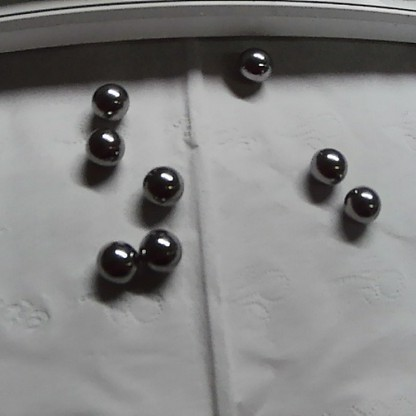ironball: (91, 232, 147, 283), (139, 161, 190, 213), (335, 181, 391, 225), (83, 74, 132, 122), (301, 135, 346, 186), (140, 222, 182, 274), (87, 124, 136, 168), (240, 45, 281, 86)
